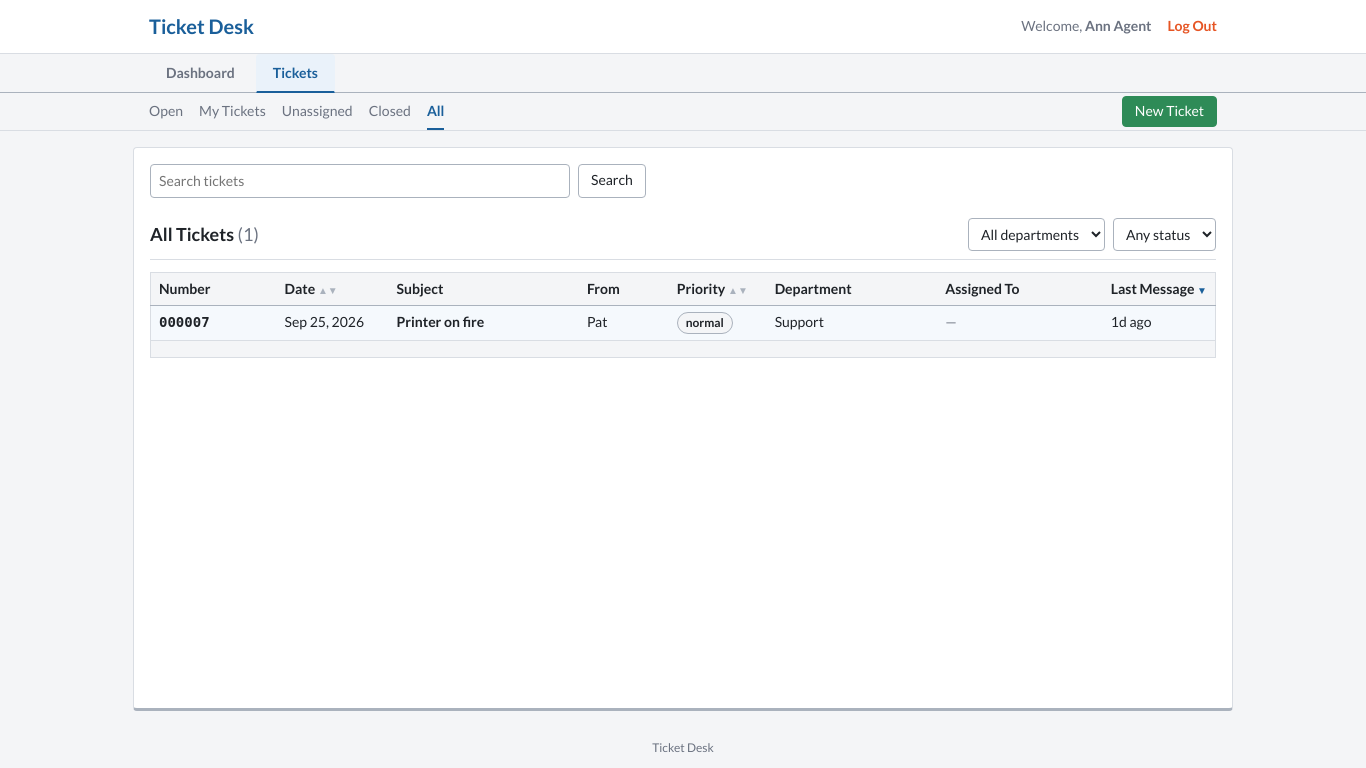
mid-session refresh failure routes to login with the notice
This screenshot has width=1366, height=768.
Expected: the text "Ann Agent" is shown, left=1085, top=17, right=1152, bottom=34
Expected: the text "Printer on fire" is shown, left=388, top=306, right=579, bottom=341
Click the link "New Ticket": (1169, 111) left=1122, top=96, right=1217, bottom=127
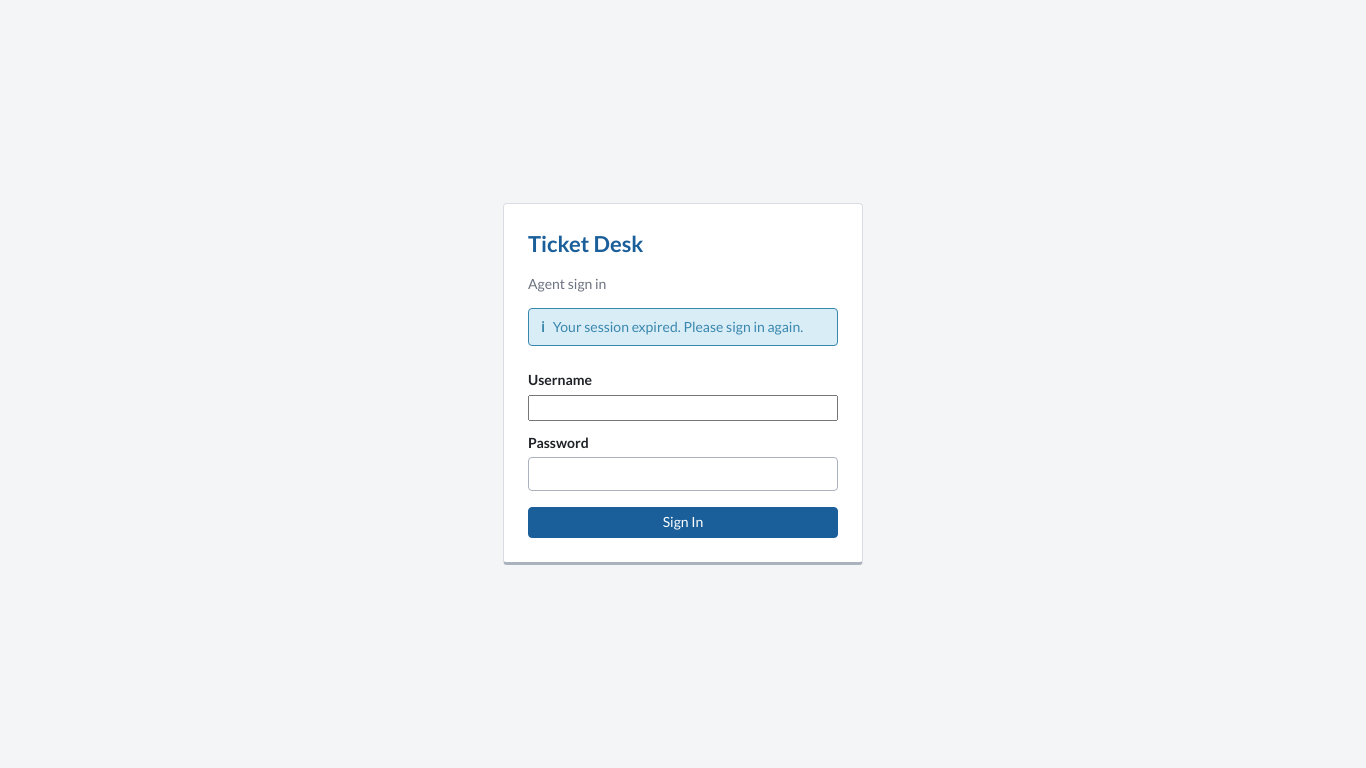
Expected: the heading "Ticket Desk" is shown, left=528, top=230, right=644, bottom=257
Expected: the text "Your session expired. Please sign in again." is shown, left=553, top=317, right=825, bottom=337
